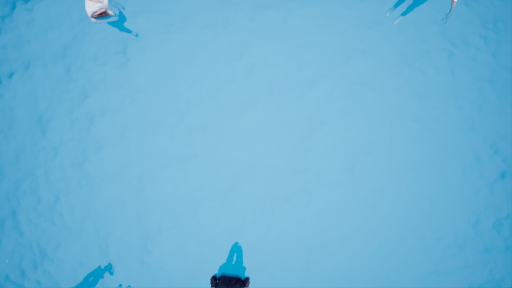person: (77, 1, 150, 43), (211, 225, 254, 288), (385, 1, 451, 25)
